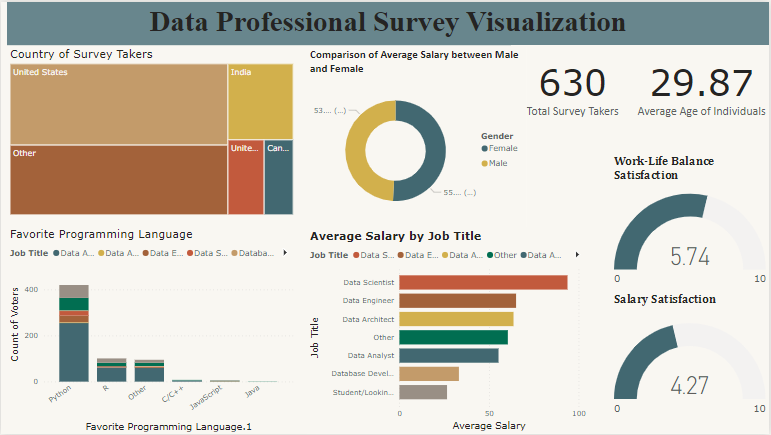

What the dashboard file says about the page in this screenshot:
{"tool":"powerbi","page":{"name":"Page 1","canvas":[1280,720],"ordinal":0},"visuals":[{"type":"textbox","box":[10.2,0,1270.2,71.7],"z":0},{"type":"card","fields":{"Values":["Count(Data Professional Survey.Unique ID)"]},"box":[849.5,71.2,205.3,142.4],"z":1000},{"type":"card","fields":{"Values":["Avg(Data Professional Survey.Q10 - Current Age)"]},"box":[1054.8,71.2,225.2,142.4],"z":2000},{"type":"barChart","title":" Average Salary by Job Title","fields":{"Category":["Data Professional Survey.Q1 - Which Title Best Fits your Current Role?.1"],"Y":["Avg(Data Professional Survey.Average Salary)"],"Series":["Data Professional Survey.Q1 - Which Title Best Fits your Current Role?.1"]},"box":[510.7,379,469.8,341],"z":3000},{"type":"columnChart","title":"Favorite Programming Language","fields":{"Category":["Data Professional Survey.Q5 - Favorite Programming Language.1"],"Y":["CountNonNull(Data Professional Survey.Unique ID)"],"Series":["Data Professional Survey.Q1 - Which Title Best Fits your Current Role?.1"]},"box":[9.9,374.2,481.9,346.1],"z":4000},{"type":"treemap","title":"Country of Survey Takers","fields":{"Values":["CountNonNull(Data Professional Survey.Q11 - Which Country do you live in?.1)"],"Details":["Data Professional Survey.Q11 - Which Country do you live in?.1"]},"box":[9.9,74.5,481.9,284.8],"z":5000},{"type":"gauge","title":"Work-Life Balance Satisfaction","fields":{"Y":["Avg(Data Professional Survey.Q6 - How Happy are you in your Current Position with the following? (Work/Life Balance))"],"MinValue":["Min(Data Professional Survey.Q6 - How Happy are you in your Current Position with the following? (Work/Life Balance))"],"MaxValue":["Max(Data Professional Survey.Q6 - How Happy are you in your Current Position with the following? (Work/Life Balance))1"]},"box":[1016.7,253.4,263.3,241.8],"z":6000},{"type":"gauge","title":"Salary Satisfaction","fields":{"Y":["Avg(Data Professional Survey.Q6 - How Happy are you in your Current Position with the following? (Salary))"],"MinValue":["Min(Data Professional Survey.Q6 - How Happy are you in your Current Position with the following? (Salary))"],"MaxValue":["Max(Data Professional Survey.Q6 - How Happy are you in your Current Position with the following? (Salary))"]},"box":[1017.4,484.1,262.6,236.3],"z":7000},{"type":"donutChart","title":"Comparison of Average Salary between Male and Female","fields":{"Category":["Data Professional Survey.Q9 - Male/Female?"],"Y":["Avg(Data Professional Survey.Average Salary)"]},"box":[510,74.5,366,299.7],"z":8000}]}

Visuals, with their boxes in screenshot pixels (x1, y1, x2, y2), scaled from the page's 1280x720 canvas onto the 771x435 screenshot:
textbox: 6/0/770/43
card - Count(Data Professional Survey.Unique ID): 512/43/635/129
card - Avg(Data Professional Survey.Q10 - Current Age): 635/43/770/129
" Average Salary by Job Title" barChart: 308/229/591/434
"Favorite Programming Language" columnChart: 6/226/296/434
"Country of Survey Takers" treemap: 6/45/296/217
"Work-Life Balance Satisfaction" gauge: 612/153/770/299
"Salary Satisfaction" gauge: 613/292/770/434
"Comparison of Average Salary between Male and Female" donutChart: 307/45/528/226
